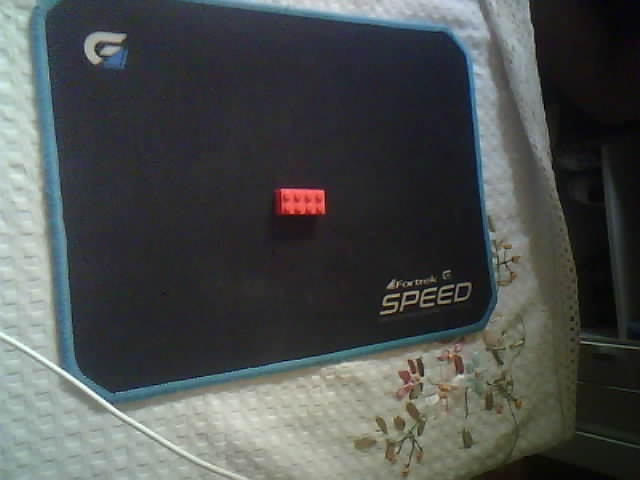lego: (272, 188, 326, 216)
